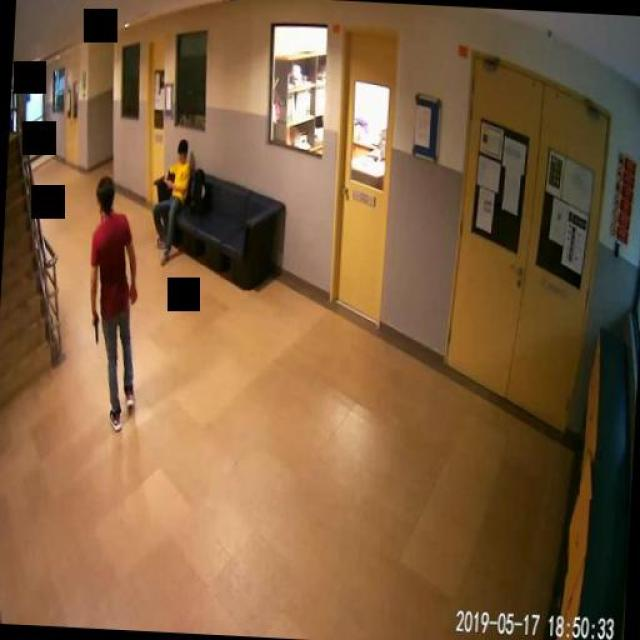gun: (89, 311, 98, 341)
